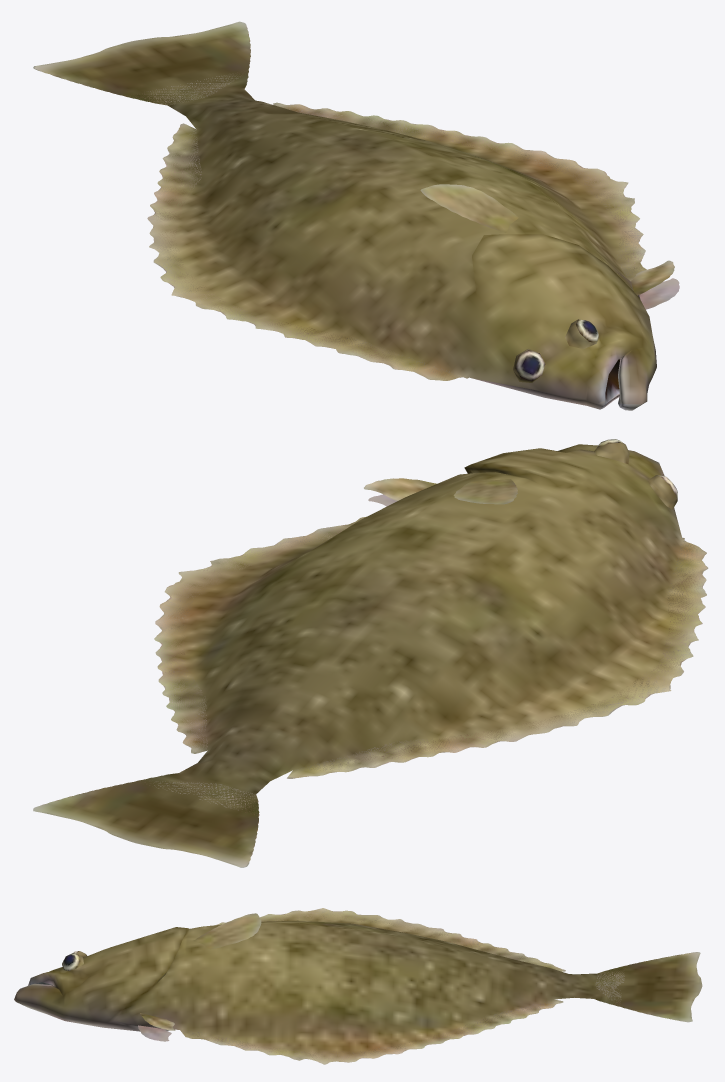
The model's file is olive-flounder.glb.
The picture shows the model from 3 angles, top to bottom: view 1: azimuth 30°, elevation 25°; view 2: azimuth 150°, elevation 25°; view 3: azimuth 270°, elevation 25°; orthographic projection. The views are drawn at different scales.
Size of the model in its own units: 7.33 by 2.19 by 13.3.
Materials: 1 (1 with a texture image).
